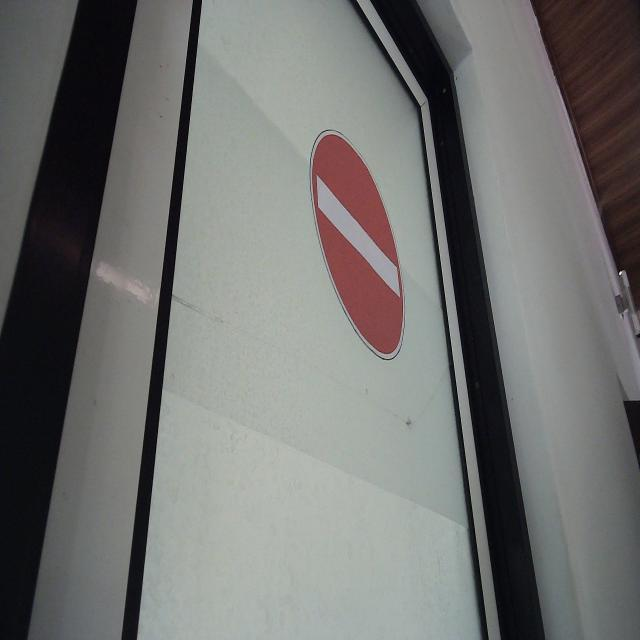no_entry: (308, 126, 408, 364)
